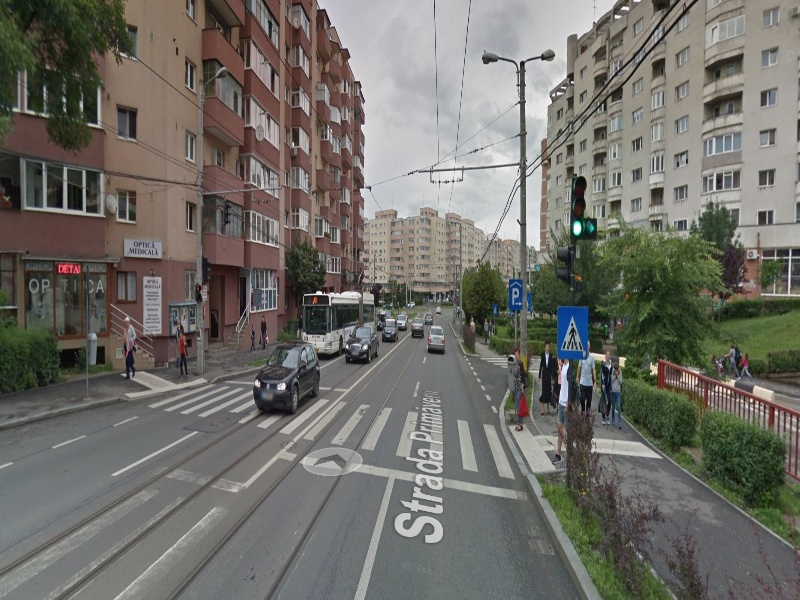crosswalk: (140, 379, 527, 500)
crosswalk_sign: (555, 306, 589, 363)
pedestrian: (556, 350, 574, 467), (510, 347, 530, 436), (576, 338, 597, 421), (117, 314, 140, 380), (605, 352, 624, 425), (537, 343, 555, 418), (175, 324, 193, 377)
semaphore: (567, 172, 600, 247)
